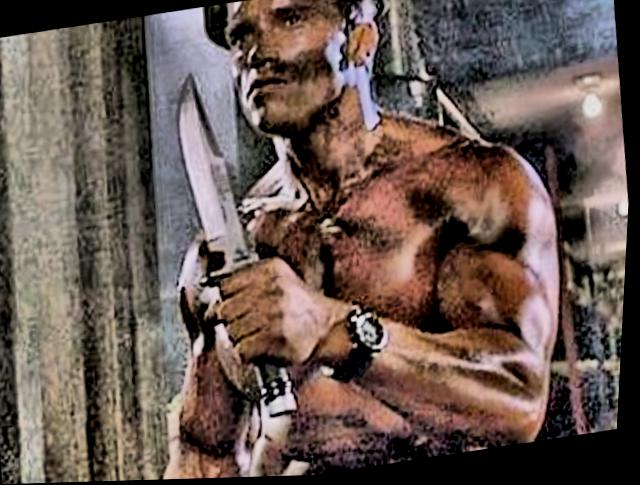knife: (150, 49, 303, 370)
